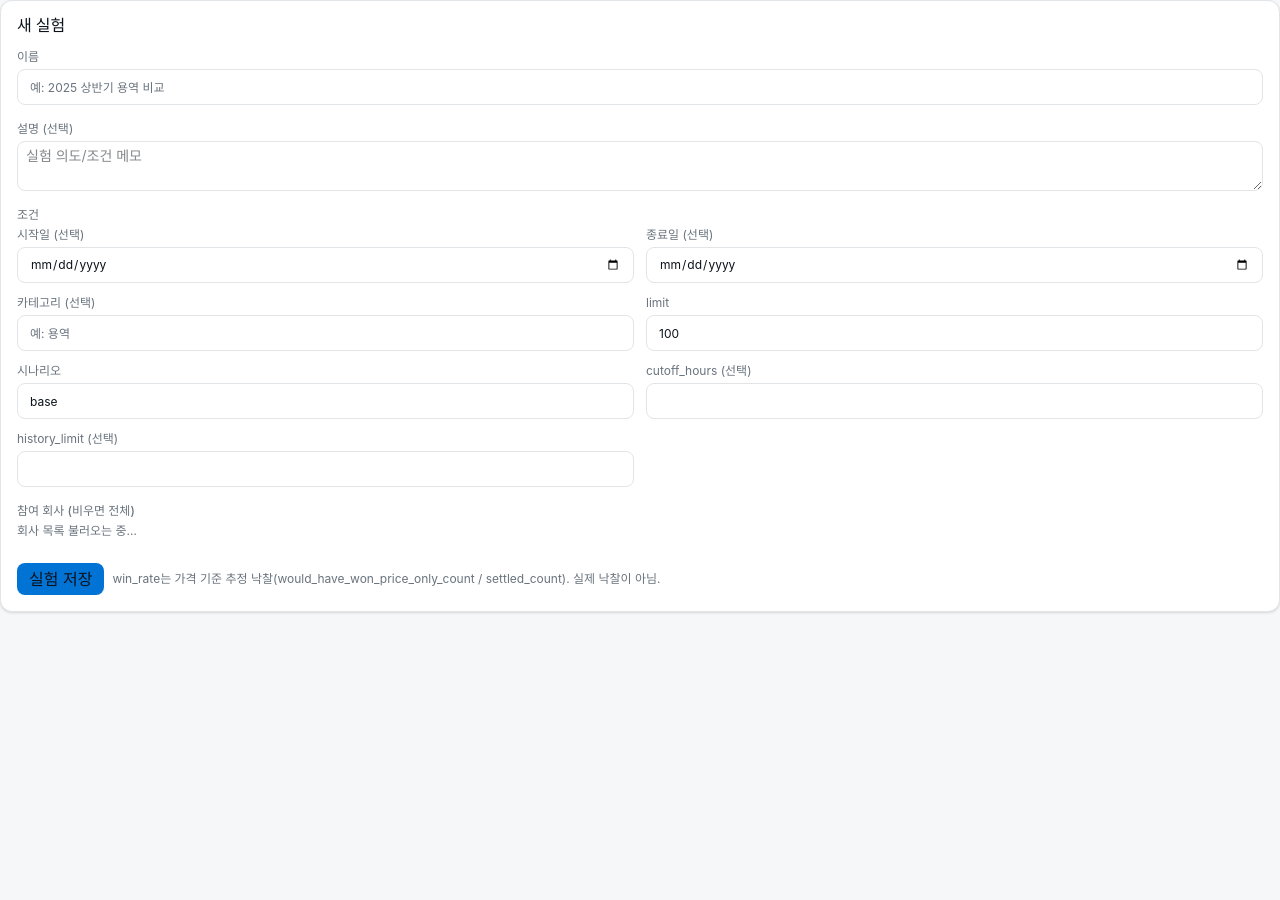
Scenario: ExperimentForm › blocks submit when the name is empty
Step 1. Click the button "실험 저장" → (61, 579), box [17,563,104,595]
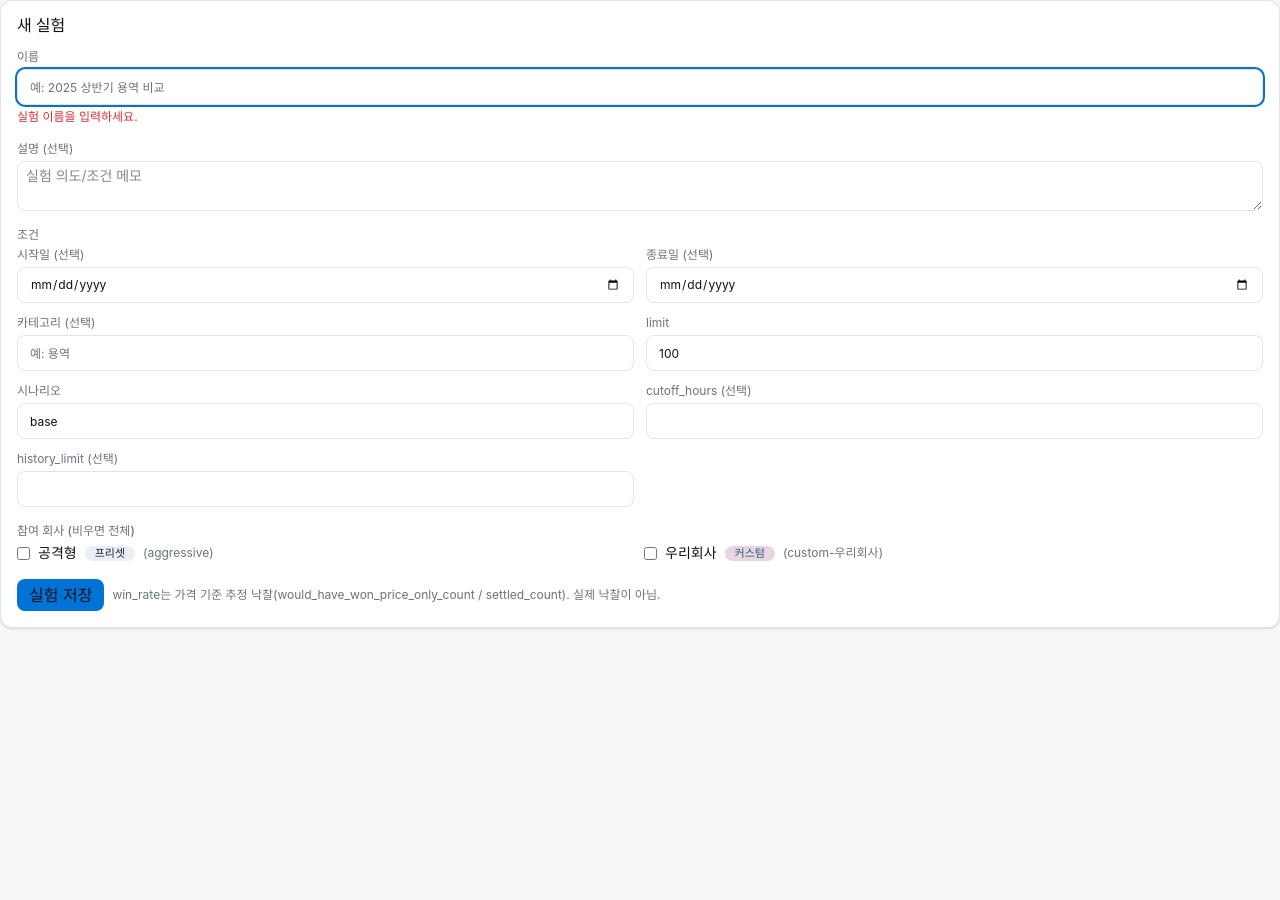
Now the text "실험 이름을 입력하세요." is shown, box [17,109,138,124]
